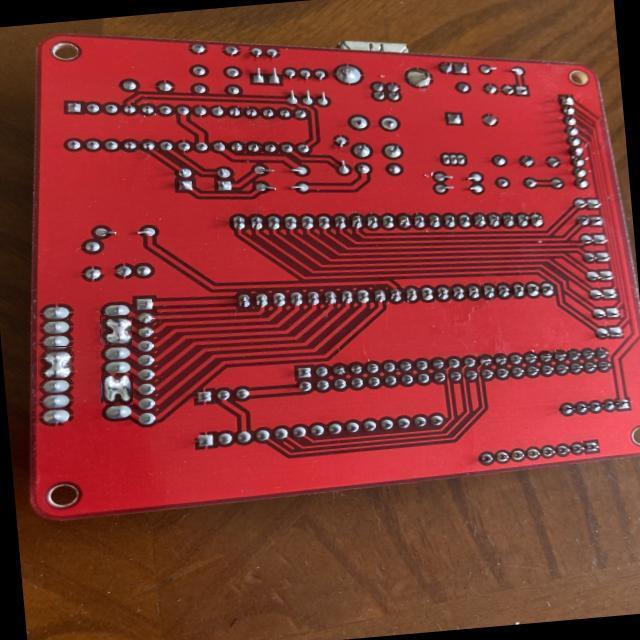damged: (37, 346, 75, 381), (101, 373, 134, 405), (100, 316, 132, 346)
